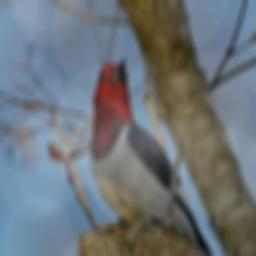Woodpecker: (83, 47, 221, 256)
